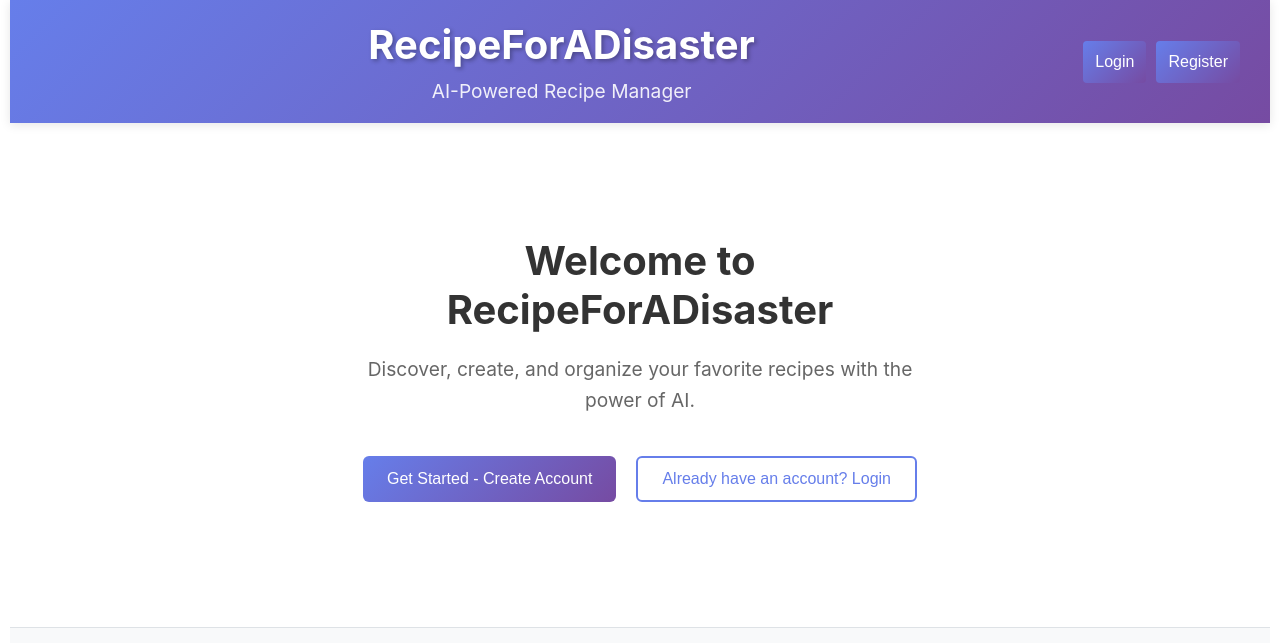
Scenario: Authentication Integration Tests › Complete Authentication Flow › allows user to register and then access the application
Expected: the heading "Welcome to RecipeForADisaster" is shown, [447,236,833,334]
Click register button
Step 1. Click the button "Get Started - Create Account" → (490, 479), box [363,456,616,502]
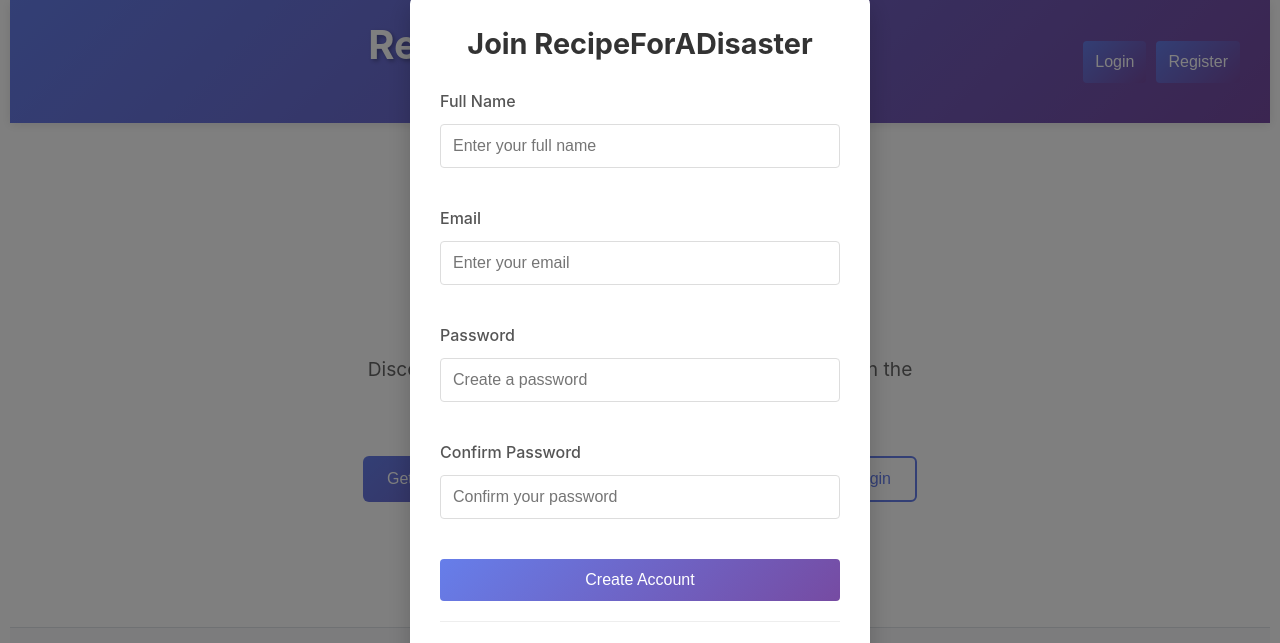
Fill out registration form
Step 2. Type "John Doe" into the field labelled "Full Name" → (640, 146), box [440,124,840,168]
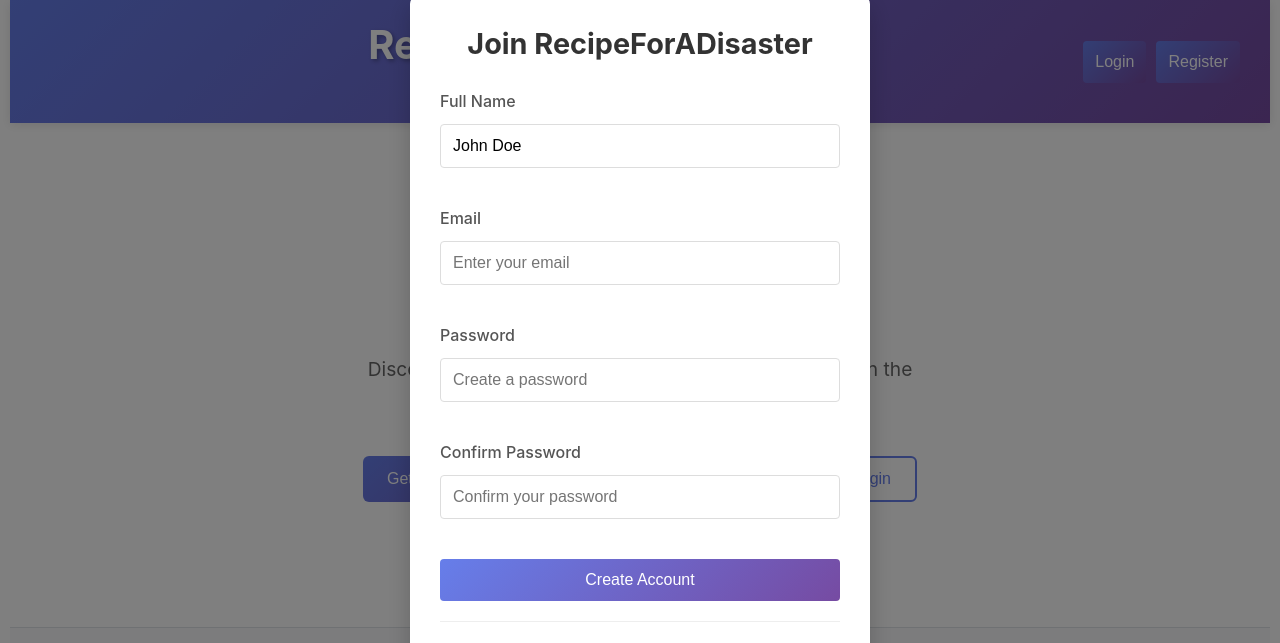
Step 3. Type "john@example.com" into the field labelled "Email" → (640, 262), box [440,240,840,284]
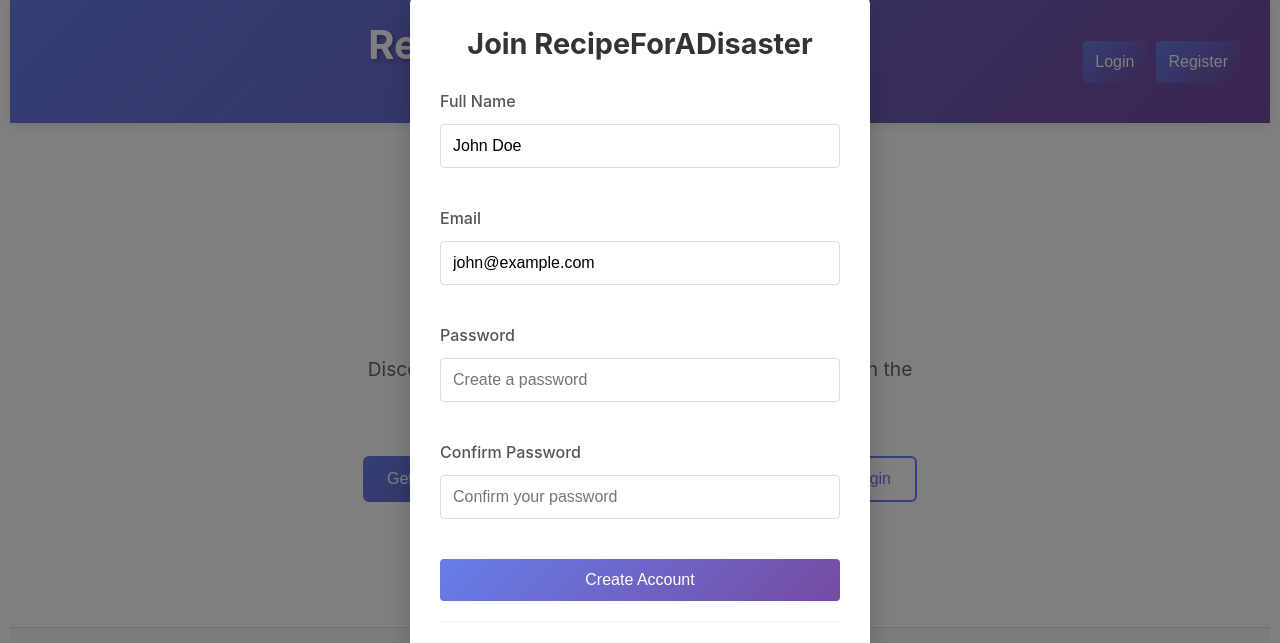
Step 4. Type "password123" into the password field labelled "Password" → (640, 380), box [440,358,840,402]
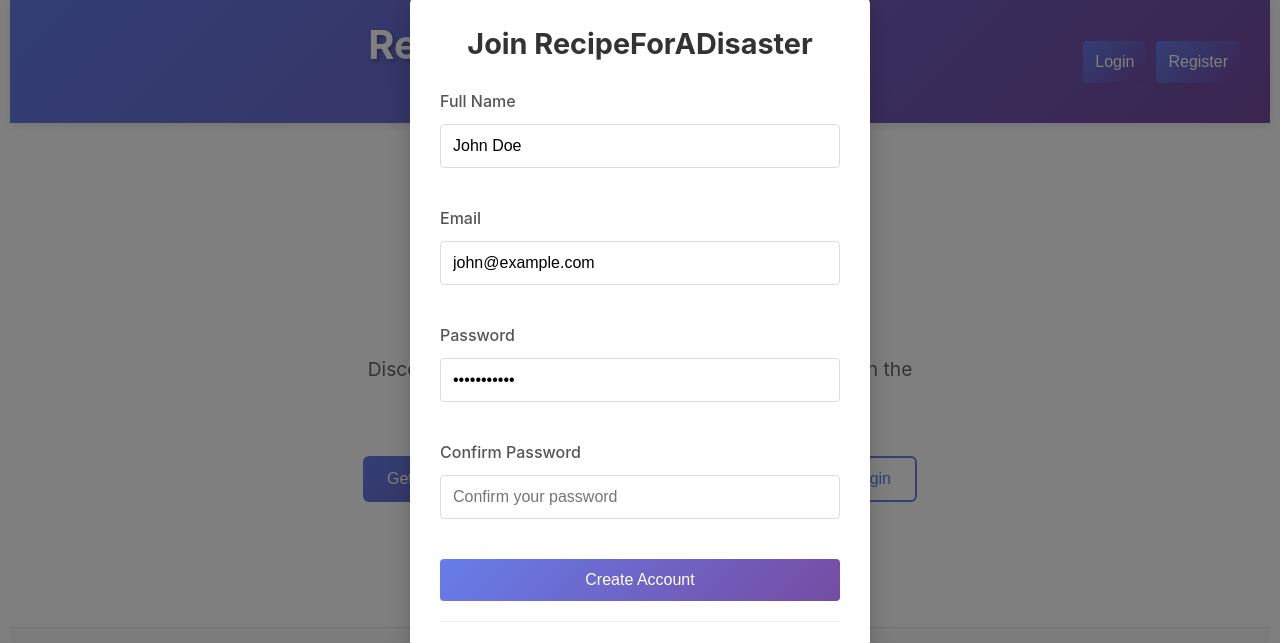
Step 5. Type "password123" into the password field labelled "Confirm Password" → (640, 496), box [440,474,840,518]
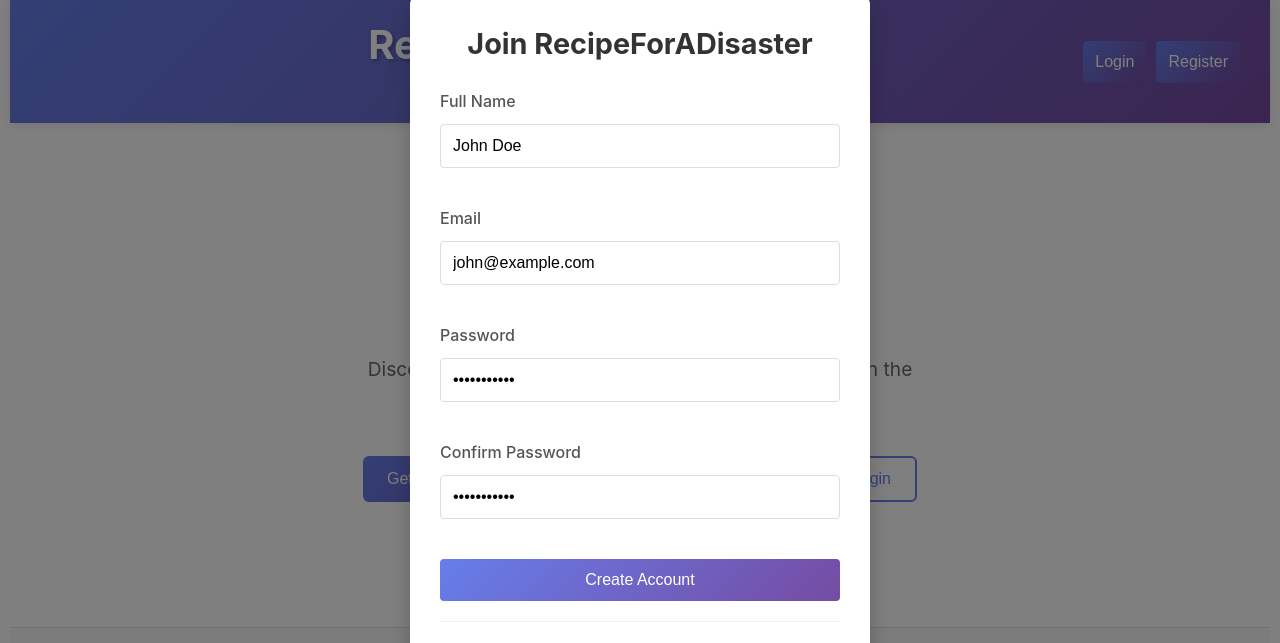
Submit registration
Step 6. Submit the form, box [440,90,840,600]
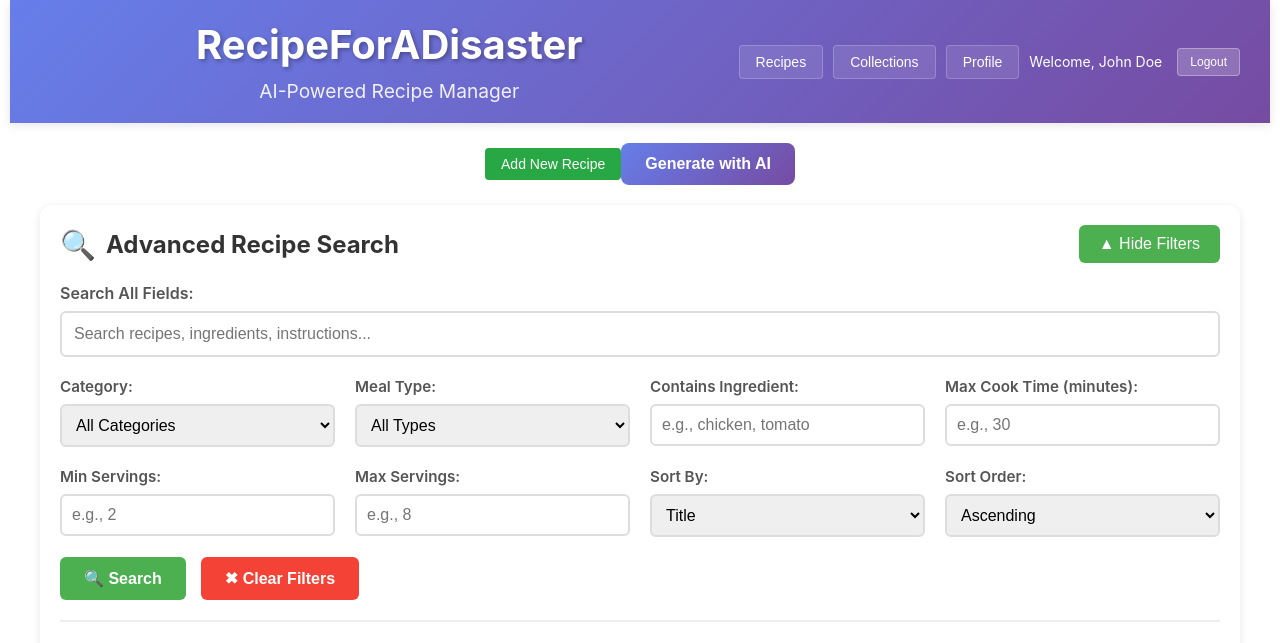
Expected: the text "Welcome, John Doe" is shown, [1029,53,1162,70]
Expected: the button "Recipes" is shown, [738,44,823,78]
Expected: the button "Collections" is shown, [833,44,936,78]
